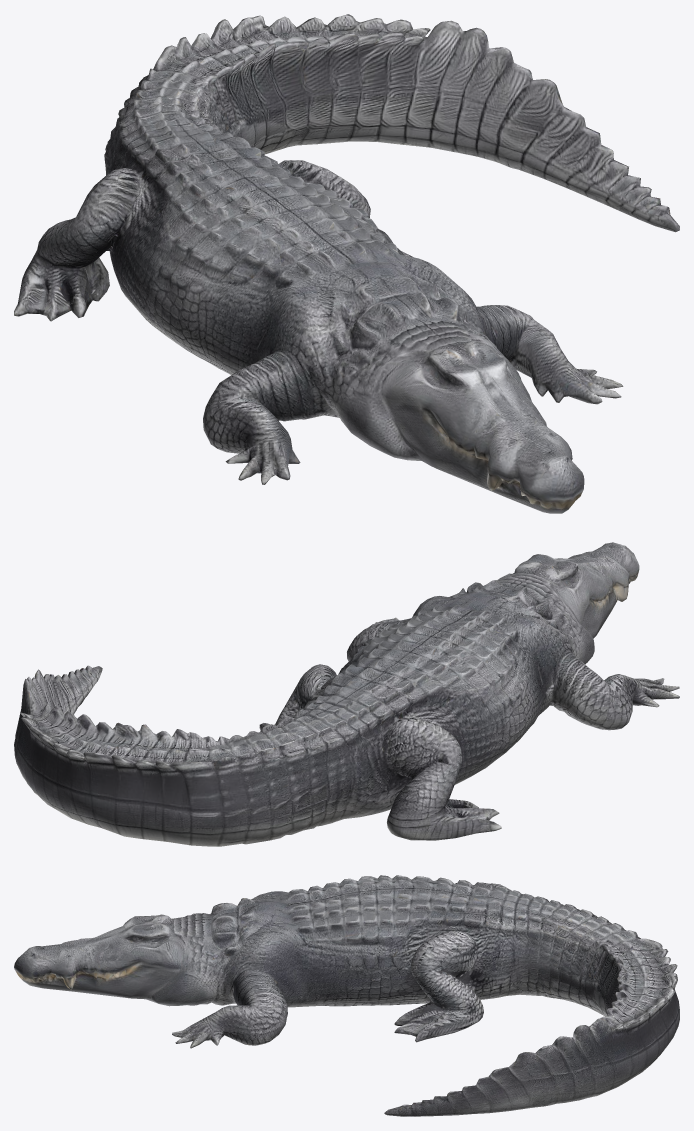
The model's file is giant-crocodile.glb.
3 views of the same model, one above another, from view 1: azimuth 30°, elevation 25°; view 2: azimuth 150°, elevation 25°; view 3: azimuth 270°, elevation 25° (orthographic). The views are drawn at different scales.
Visible parts, largest first — view 1: Mesh1.0; view 2: Mesh1.0; view 3: Mesh1.0.
Boxes of the visible parts, bbox=[...] form: Mesh1.0: bbox=[14, 14, 679, 513]; Mesh1.0: bbox=[14, 542, 679, 846]; Mesh1.0: bbox=[14, 875, 679, 1116].
Bounding box in the file's own units: 1.3 × 0.321 × 1.91.
Materials: 1 (1 with a texture image).
